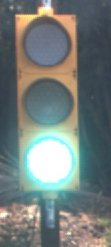Green: (11, 8, 84, 200)
